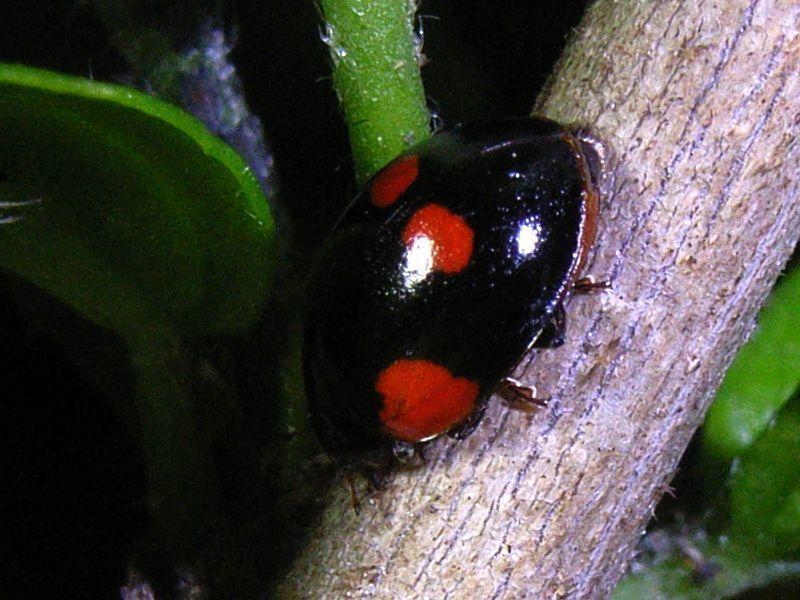ladybug: (301, 113, 618, 514)
